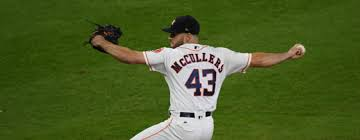baseball: (293, 41, 306, 60)
baseball player: (86, 14, 306, 140)
